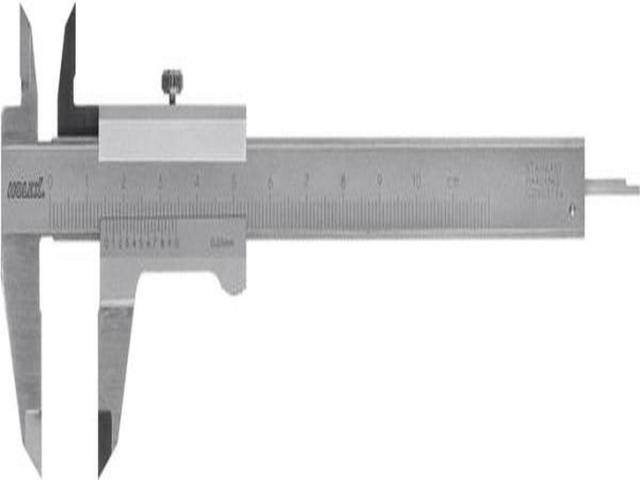Calipers: (1, 11, 640, 470)
